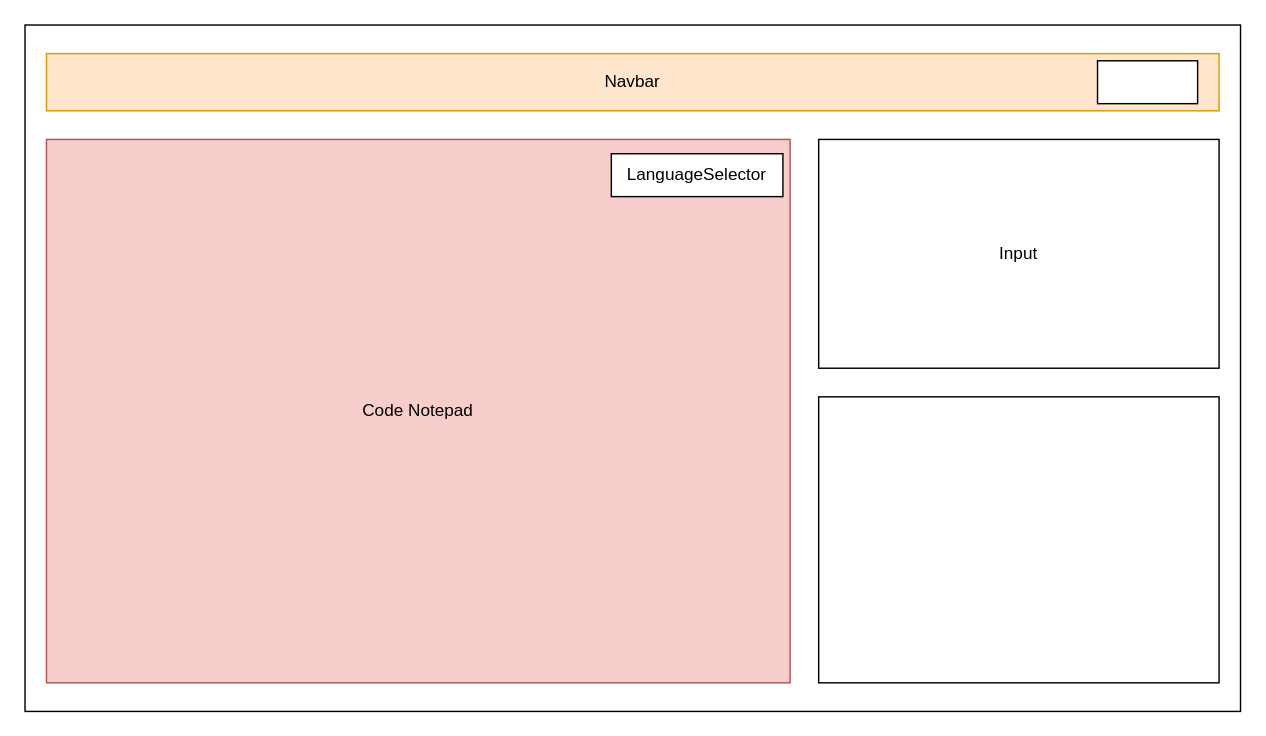
The diagram is 1266 pixels wide and 736 high, and some of its shapes have lost their labels. The centre of each missing label's shape, as x and y in pixels:
"Output" goes at (1018,539).
"Run code" goes at (1147,81).
